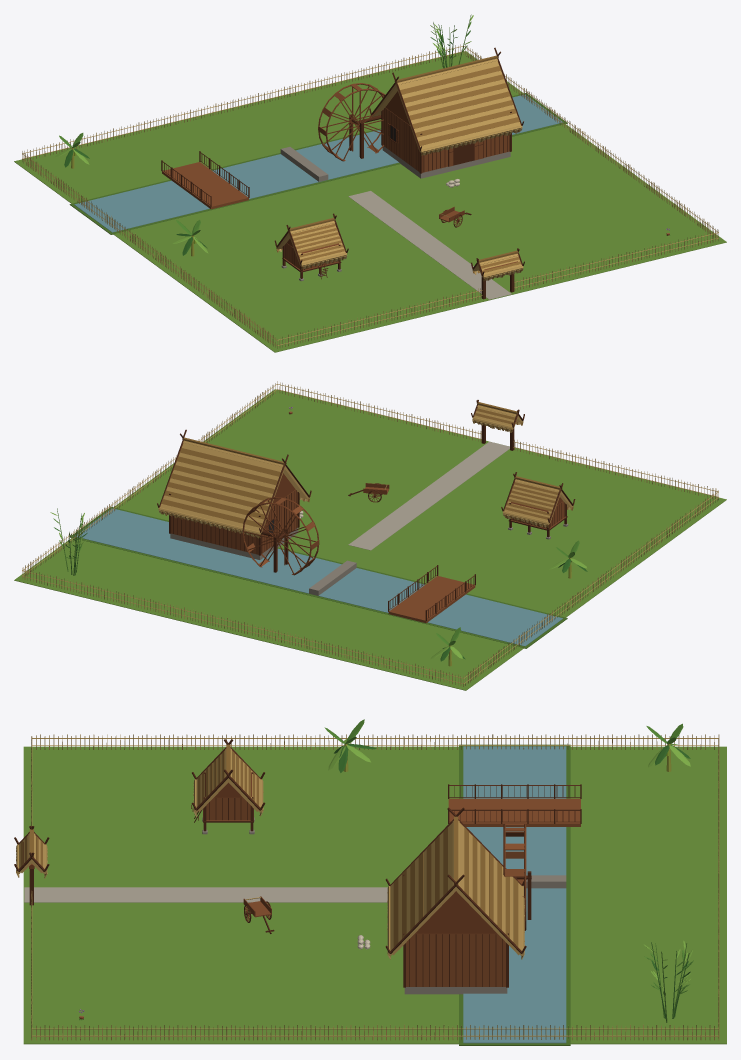
Rendered from power_plant.glb.
3 views of the same model, one above another, from view 1: azimuth 30°, elevation 25°; view 2: azimuth 150°, elevation 25°; view 3: azimuth 270°, elevation 25° (orthographic). The views are drawn at different scales.
Parts seen in each view (by area): view 1: body; view 2: body; view 3: body.
Boxes of the visible parts, x1,y1,x2,y2 form: body: [14, 14, 726, 352]; body: [14, 381, 726, 690]; body: [14, 719, 726, 1045].
Size of the model in its own units: 48.4 by 9.79 by 48.56.
